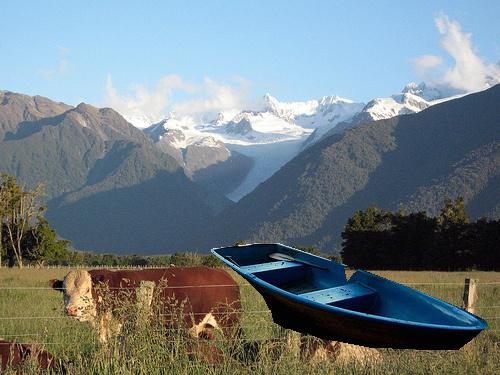tampered: (211, 244, 488, 350)
